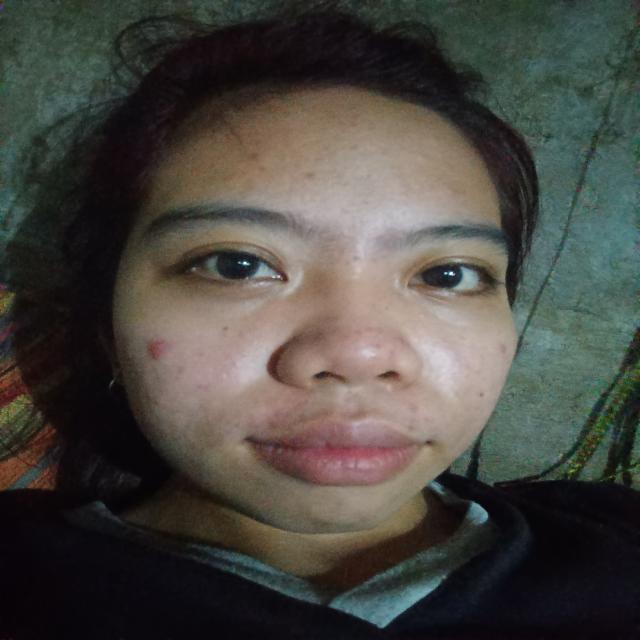Acne: (145, 336, 165, 362), (246, 151, 268, 174), (264, 410, 282, 431), (406, 401, 420, 414), (303, 170, 318, 181), (349, 253, 362, 264), (176, 365, 187, 375), (246, 151, 257, 161), (498, 343, 508, 354), (405, 424, 415, 434), (313, 332, 324, 341), (255, 165, 267, 173), (398, 336, 407, 346), (354, 330, 362, 336), (152, 398, 160, 404), (373, 344, 382, 349), (367, 326, 374, 332)
Blackheads: (316, 145, 382, 217), (190, 345, 249, 390), (424, 336, 478, 384)
Eyebags: (154, 271, 294, 304), (403, 281, 502, 312)
